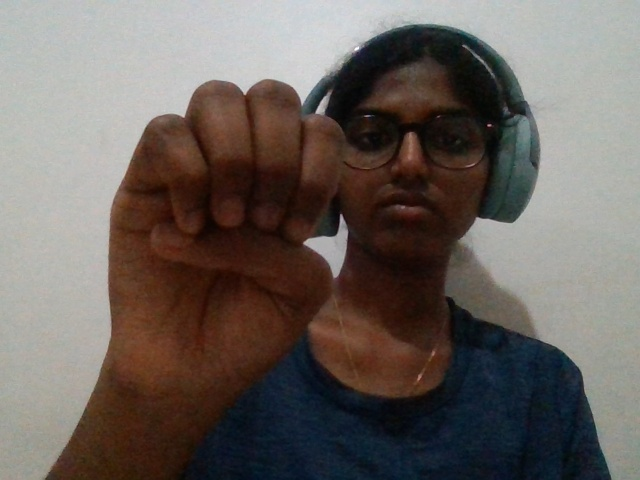E: (59, 59, 369, 467)
